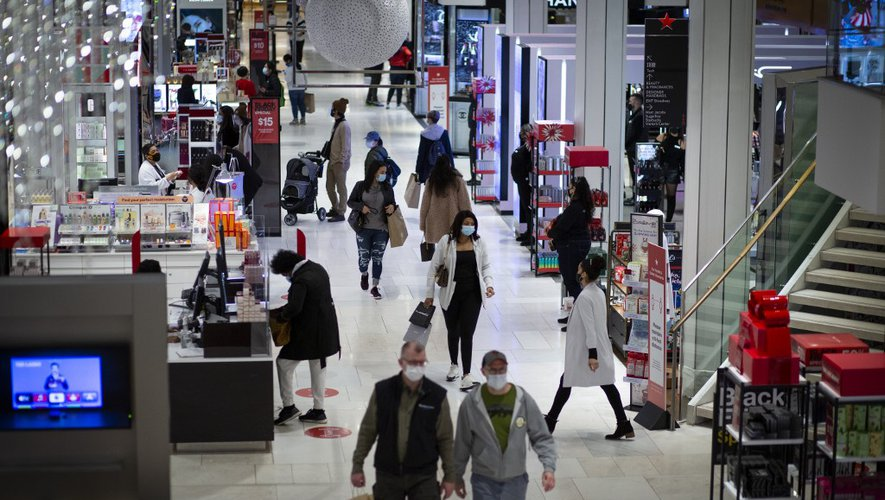with_mask: (400, 343, 427, 386), (482, 359, 514, 392), (455, 212, 479, 239), (368, 161, 390, 188), (147, 144, 168, 167), (575, 262, 590, 284), (365, 137, 376, 148)
